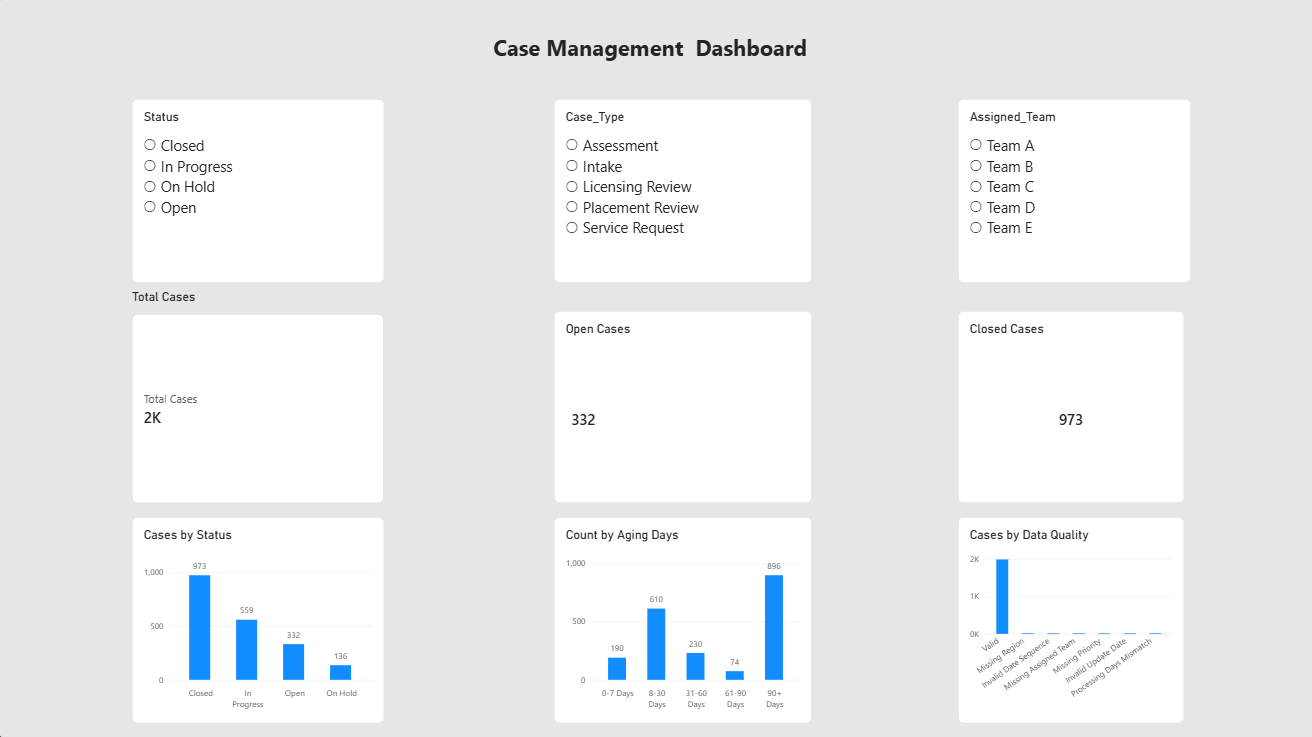

Layout of this report page (visuals, bound fields, positions):
{"tool":"powerbi","page":{"name":"Case Management Overview","canvas":[1920,1080],"ordinal":0},"visuals":[{"type":"cardVisual","title":"Total Cases","fields":{"Data":["CountNonNull(case_management_sample.Case_ID)"]},"box":[194,424.6,367.7,312.2],"z":0},{"type":"kpi","title":"Open Cases","fields":{"Indicator":["CountNonNull(case_management_sample.Case_ID)"],"TrendLine":["case_management_sample.Status"]},"box":[809.7,456.7,376.4,280.1],"z":1000},{"type":"kpi","title":"Closed Cases","fields":{"Indicator":["CountNonNull(case_management_sample.Case_ID)"],"TrendLine":["case_management_sample.Status"]},"box":[1399.1,456.7,329.7,280.1],"z":2000},{"type":"clusteredColumnChart","title":"Cases by Data Quality ","fields":{"Category":["case_management_sample.Data_Quality_Status"],"Y":["CountNonNull(case_management_sample.Case_ID)"]},"box":[1399.1,757.2,329.7,300.5],"z":3000},{"type":"clusteredColumnChart","title":"Cases by Status","fields":{"Category":["case_management_sample.Status"],"Y":["CountNonNull(case_management_sample.Case_ID)"]},"box":[194,757.2,367.7,300.5],"z":4000},{"type":"clusteredColumnChart","title":"Count by Aging Days","fields":{"Category":["case_management_sample.AgingGroup"],"Y":["CountNonNull(case_management_sample.Case_ID)"]},"box":[809.7,757.2,376.4,300.5],"z":5000},{"type":"listSlicer","fields":{"Values":["case_management_sample.Status"]},"box":[194,147.4,367.7,268.4],"z":5003},{"type":"listSlicer","fields":{"Values":["case_management_sample.Case_Type"]},"box":[809.7,147.4,376.4,268.4],"z":5004},{"type":"listSlicer","title":"Assigned_Team ","fields":{"Values":["case_management_sample.Assigned_Team"]},"box":[1399.1,147.4,339.9,268.4],"z":5005},{"type":"textbox","box":[0,50,1900,50],"z":5006}]}

Visuals, with their boxes in screenshot pixels (x1, y1, x2, y2), scaled from the page's 1920x1080 canvas onto the 1312x737 screenshot:
"Total Cases" cardVisual: [133,290,384,503]
"Open Cases" kpi: [553,312,811,503]
"Closed Cases" kpi: [956,312,1181,503]
"Cases by Data Quality " clusteredColumnChart: [956,517,1181,722]
"Cases by Status" clusteredColumnChart: [133,517,384,722]
"Count by Aging Days" clusteredColumnChart: [553,517,811,722]
listSlicer - case_management_sample.Status: [133,101,384,284]
listSlicer - case_management_sample.Case_Type: [553,101,811,284]
"Assigned_Team " listSlicer: [956,101,1188,284]
textbox: [0,34,1298,68]
